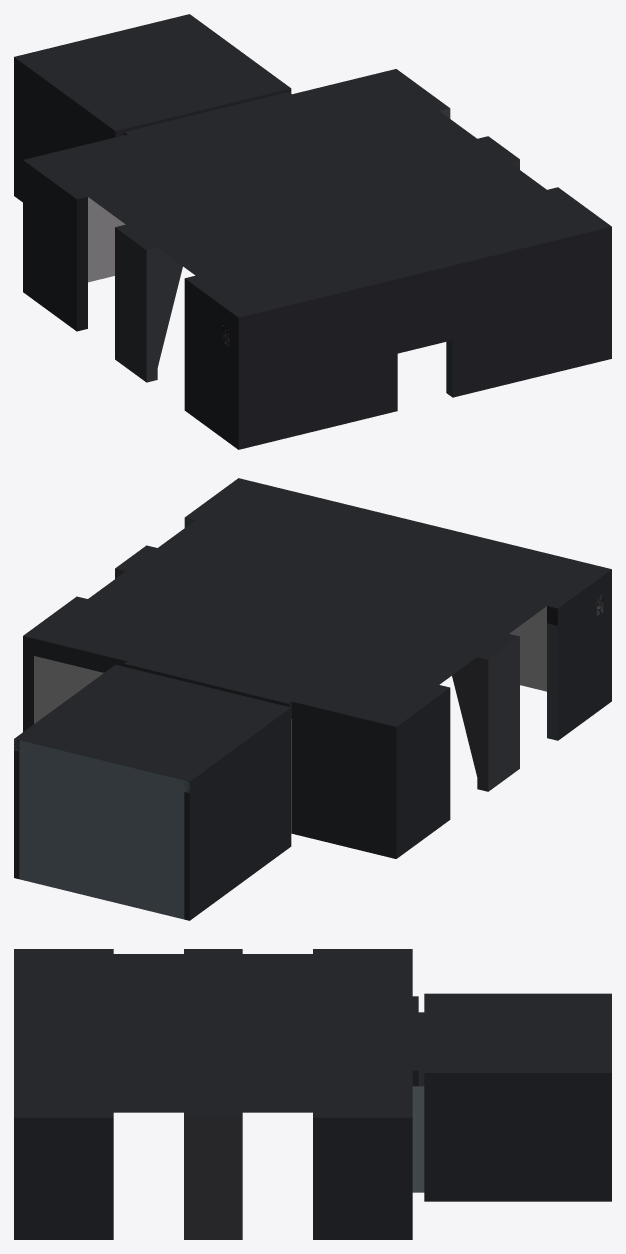
File: budynek.fbx
3 views of the same model, one above another, from view 1: azimuth 30°, elevation 25°; view 2: azimuth 150°, elevation 25°; view 3: azimuth 270°, elevation 25° (orthographic). The views are drawn at different scales.
Parts seen in each view (by area): view 1: Cube.158; view 2: Cube.158; view 3: Cube.158.
Part boxes in pixels (x1,y1,x2,y2): Cube.158: (14, 14, 611, 449); Cube.158: (14, 478, 611, 920); Cube.158: (14, 949, 611, 1239).
Bounding box in the file's own units: 6800 × 2600 × 10200.
